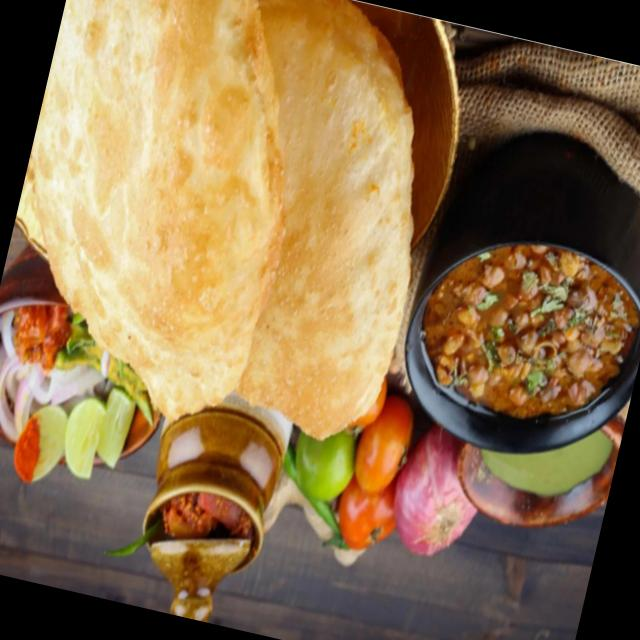Bhatura: (0, 0, 337, 434), (150, 0, 470, 455)
